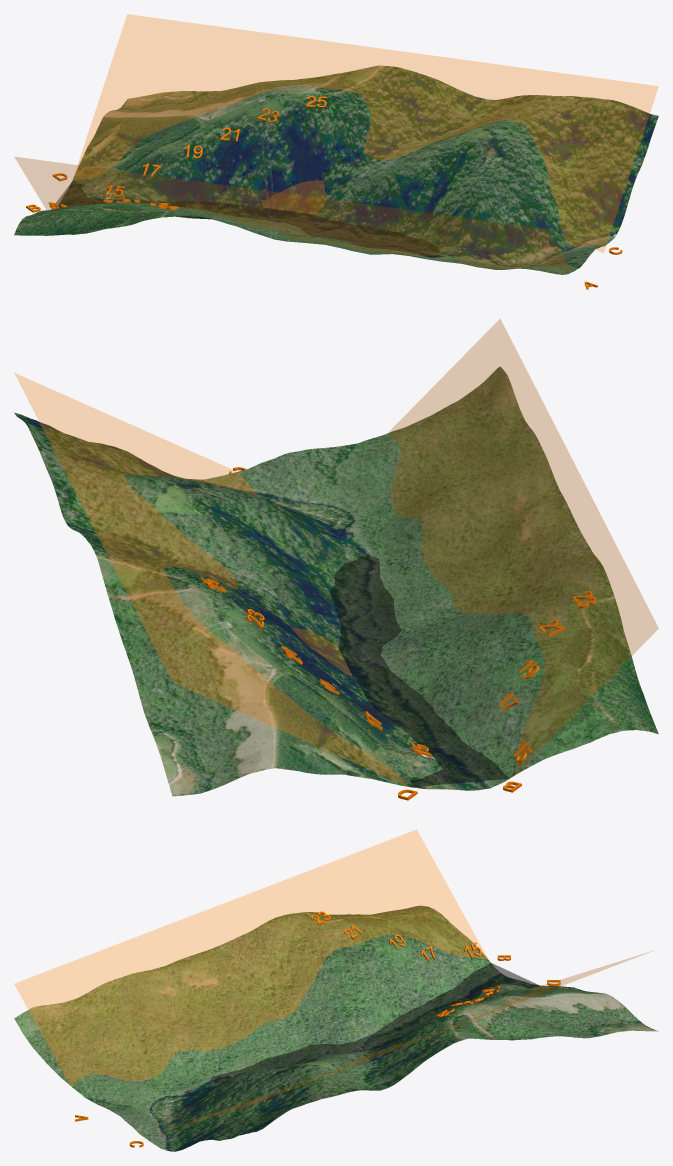
The model's file is curva16b.glb.
3 views of the same model, one above another, from view 1: azimuth 30°, elevation 25°; view 2: azimuth 150°, elevation 25°; view 3: azimuth 270°, elevation 25° (orthographic). The views are drawn at different scales.
Visible parts, largest first — view 1: root, object 2, object 3; view 2: root, object 2, object 3; view 3: root, object 2, object 3.
Part boxes in pixels (bbox=[...]): root: bbox=[14, 65, 658, 274]; object 2: bbox=[15, 14, 658, 271]; object 3: bbox=[26, 96, 622, 289]; root: bbox=[14, 366, 658, 796]; object 2: bbox=[14, 319, 658, 785]; object 3: bbox=[199, 467, 596, 800]; root: bbox=[14, 905, 658, 1151]; object 2: bbox=[14, 830, 651, 1135]; object 3: bbox=[75, 911, 560, 1147].
Bounding box in the file's own units: 1835 × 337 × 1874.
Materials: 4 (1 with a texture image).
